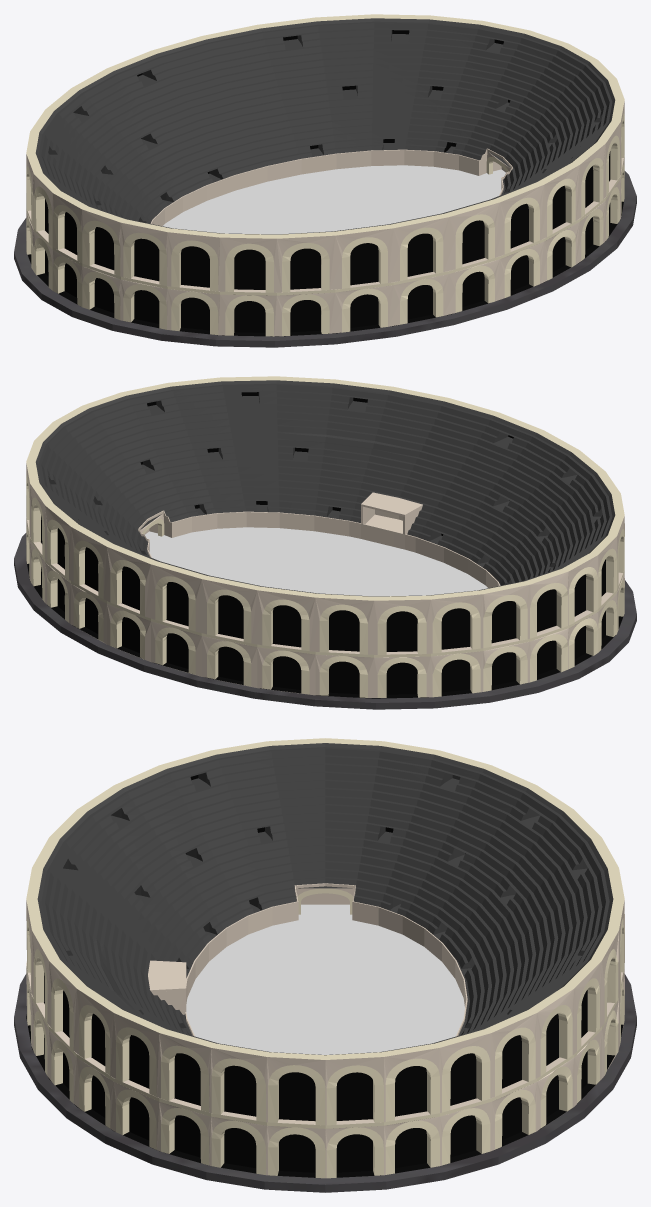
File: Arena V2.fbx
3 renders of one model, top to bottom at view 1: azimuth 30°, elevation 25°; view 2: azimuth 150°, elevation 25°; view 3: azimuth 270°, elevation 25°, orthographic. The views are drawn at different scales.
Parts seen in each view (by area): view 1: Arena; view 2: Arena; view 3: Arena.
Part boxes in pixels (x1=…): Arena: x1=14, y1=14, x2=636, y2=347; Arena: x1=14, y1=376, x2=636, y2=709; Arena: x1=14, y1=738, x2=636, y2=1192.
Size of the model in its own units: 14573 by 2558 by 11450.
8 materials, 1 textured.
